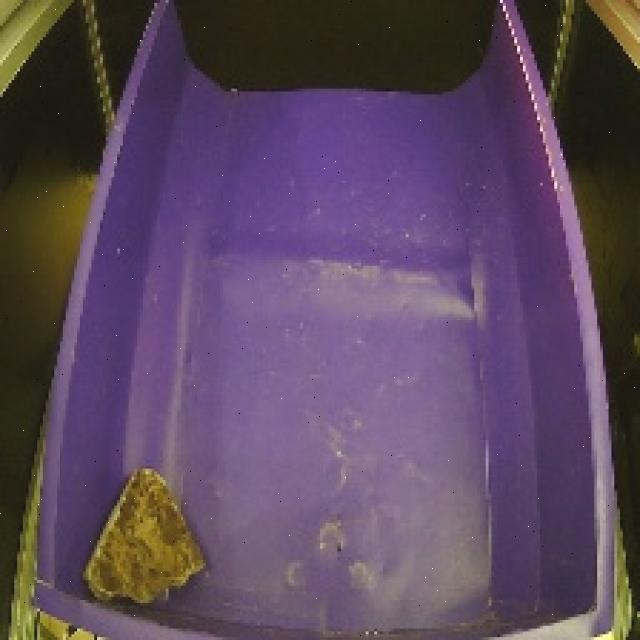china: (74, 459, 215, 615)
